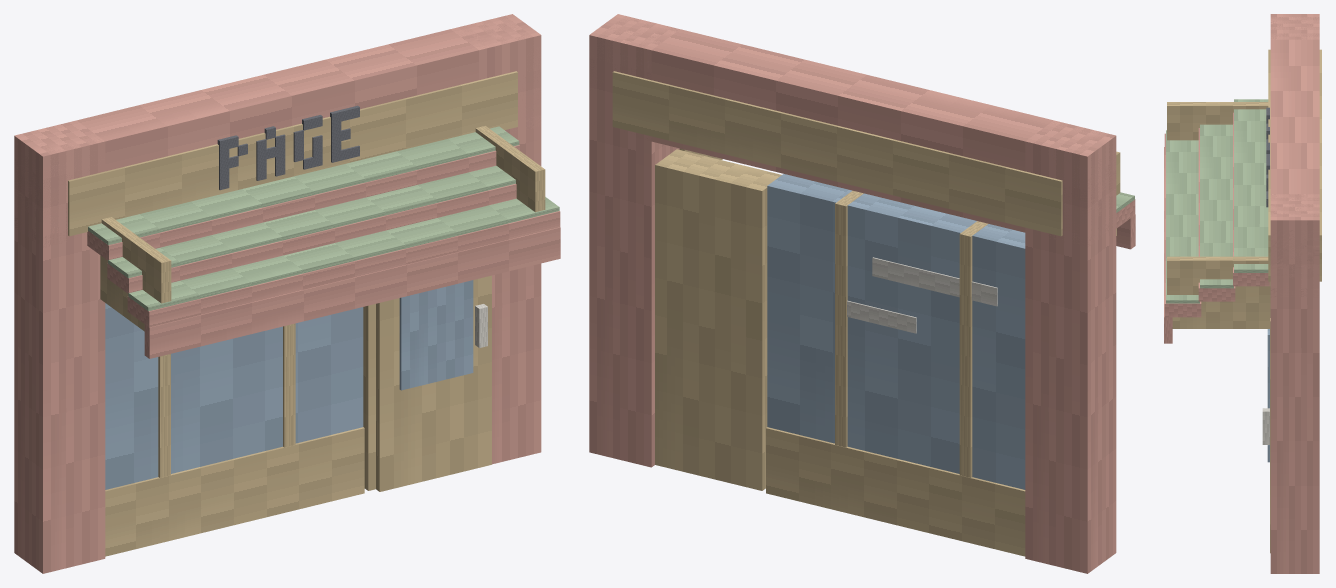
The model's file is pixel-modern-city-street-shopfront-bay-bookshop-17bfd323__29004.glb.
The picture shows the model from 3 angles, left to right: view 1: azimuth 30°, elevation 25°; view 2: azimuth 150°, elevation 25°; view 3: azimuth 270°, elevation 25°; orthographic projection. The views are drawn at different scales.
Parts seen in each view (by area): view 1: shopfront-bay-bookshop, door-shop/oak, door-shop/slate; view 2: shopfront-bay-bookshop; view 3: shopfront-bay-bookshop, door-shop/bone, door-shop/slate, door-shop/oak.
Part boxes in pixels (x1,y1,x2,y2): shopfront-bay-bookshop: [14, 14, 560, 573]; door-shop/oak: [376, 275, 491, 491]; door-shop/slate: [399, 280, 473, 390]; shopfront-bay-bookshop: [589, 14, 1135, 573]; shopfront-bay-bookshop: [1164, 14, 1321, 573]; door-shop/bone: [1262, 408, 1269, 444]; door-shop/slate: [1267, 329, 1269, 462]; door-shop/oak: [1270, 318, 1270, 553].
Size of the model in its own units: 4 by 3.2 by 1.3.
6 materials, 6 textured.
